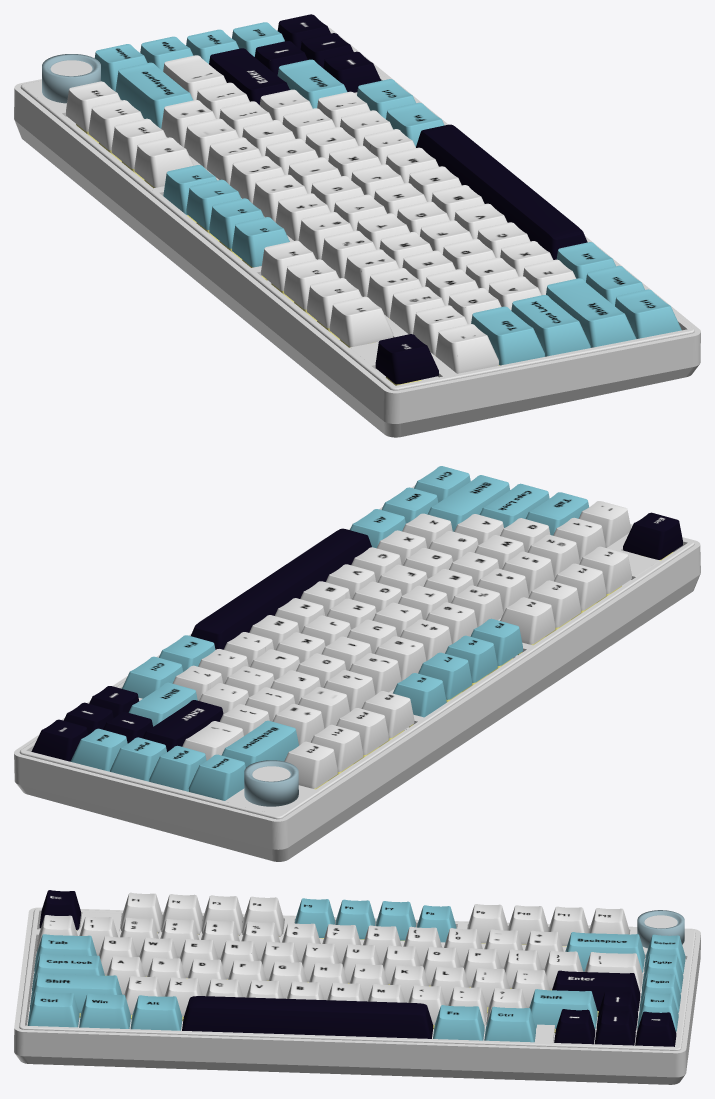
3 views of the same model, one above another, from view 1: azimuth 30°, elevation 25°; view 2: azimuth 150°, elevation 25°; view 3: azimuth 270°, elevation 25° (orthographic). The views are drawn at different scales.
Visible parts, largest first — view 1: Board, Plane, Keycap.050, Keycap.028, Keycap.036, Keycap.001, Keycap, Keycap.002, Keycap.015, Keycap.062, Keycap.063, Roller (+70 smaller); view 2: Board, Plane, Roller, Keycap.028, Keycap.050, Keycap, Keycap.062, Keycap.029, Keycap.013, Keycap.005, Keycap.014, Keycap.036 (+70 smaller); view 3: Board, Plane, Keycap.062, Keycap.050, Keycap.074, Keycap.028, Keycap.076, Keycap.079, Keycap.063, Keycap.075, Keycap.077, Keycap.036 (+71 smaller).
Part boxes in pixels (bbox=[...]): Board: bbox=[14, 27, 700, 437]; Plane: bbox=[416, 124, 587, 259]; Keycap.050: bbox=[546, 278, 636, 347]; Keycap.028: bbox=[115, 62, 193, 128]; Keycap.036: bbox=[511, 295, 590, 356]; Keycap.001: bbox=[471, 306, 544, 365]; Keycap: bbox=[375, 334, 438, 384]; Keycap.002: bbox=[329, 296, 393, 346]; Keycap.015: bbox=[435, 324, 498, 373]; Keycap.062: bbox=[209, 48, 289, 104]; Keycap.063: bbox=[615, 289, 681, 338]; Roller: bbox=[42, 54, 100, 103]; Board: bbox=[14, 485, 700, 861]; Plane: bbox=[191, 528, 371, 649]; Roller: bbox=[244, 760, 298, 806]; Keycap.028: bbox=[221, 720, 298, 767]; Keycap.050: bbox=[427, 475, 509, 531]; Keycap: bbox=[623, 512, 682, 559]; Keycap.062: bbox=[142, 700, 223, 751]; Keycap.029: bbox=[188, 754, 245, 800]; Keycap.013: bbox=[284, 741, 337, 788]; Keycap.005: bbox=[500, 597, 555, 644]; Keycap.014: bbox=[149, 745, 206, 791]; Keycap.036: bbox=[479, 483, 549, 527]; Board: bbox=[14, 907, 700, 1084]; Plane: bbox=[182, 996, 433, 1038]; Keycap.062: bbox=[552, 970, 640, 1011]; Keycap.050: bbox=[30, 973, 122, 1013]; Keycap.074: bbox=[529, 989, 597, 1029]; Keycap.028: bbox=[565, 932, 644, 972]; Keycap.076: bbox=[130, 995, 182, 1030]; Keycap.079: bbox=[433, 1005, 484, 1040]; Keycap.063: bbox=[27, 992, 79, 1027]; Keycap.075: bbox=[79, 993, 130, 1028]; Keycap.077: bbox=[484, 1006, 535, 1042]; Keycap.036: bbox=[32, 953, 104, 990].
Bounding box in the file's own units: 0.1453 × 0.0344 × 0.3128.
15 materials, 3 textured.
